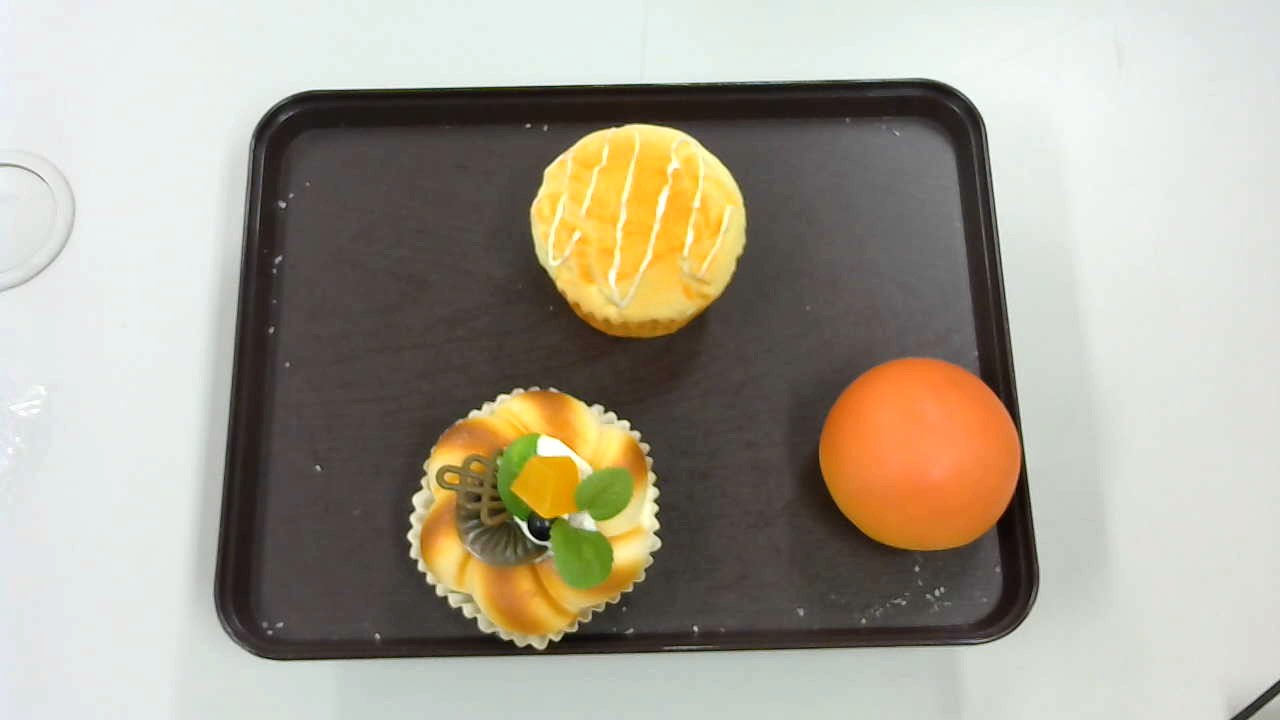bun: (818, 356, 1021, 554)
cupcake: (529, 124, 748, 338)
fruit tart: (406, 385, 661, 649)
